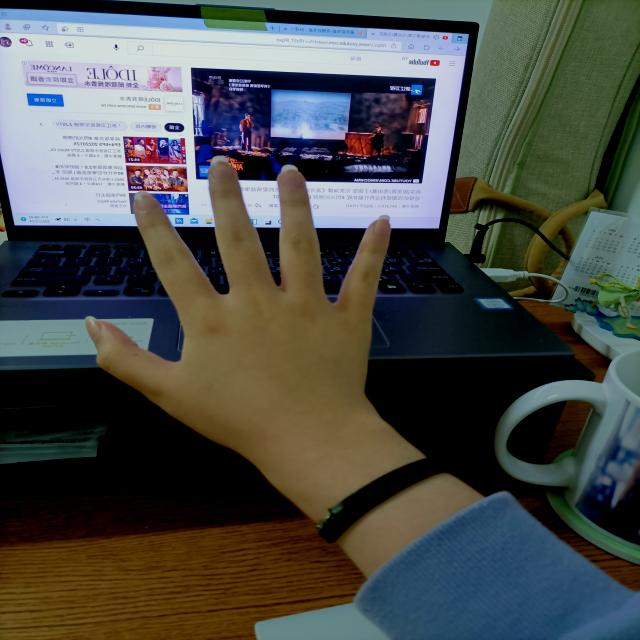no_glove: (65, 133, 415, 470)
